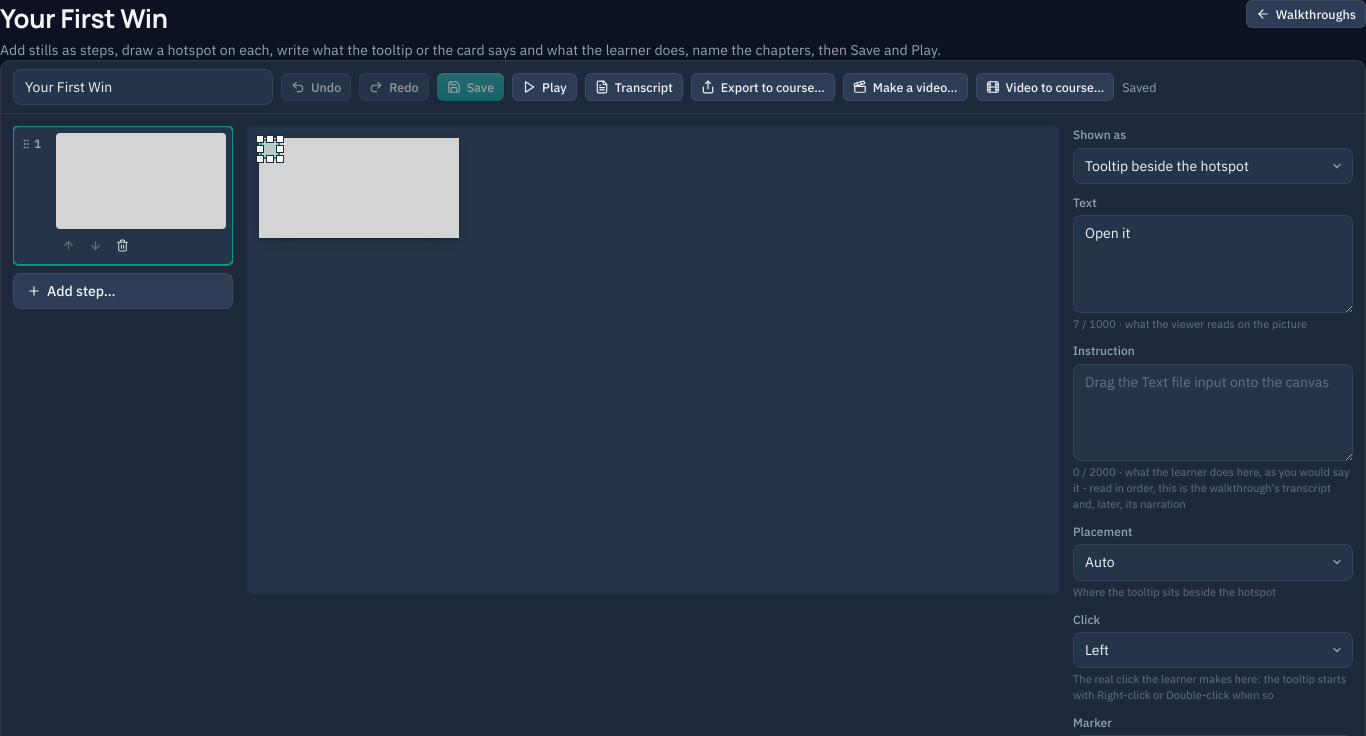
Test: Video to course… (R1) › sits beside Make a video… and opens the dialog with everything prefilled and the three lines
Click the button "Video to course…": [1045, 87] box [976,73,1114,101]
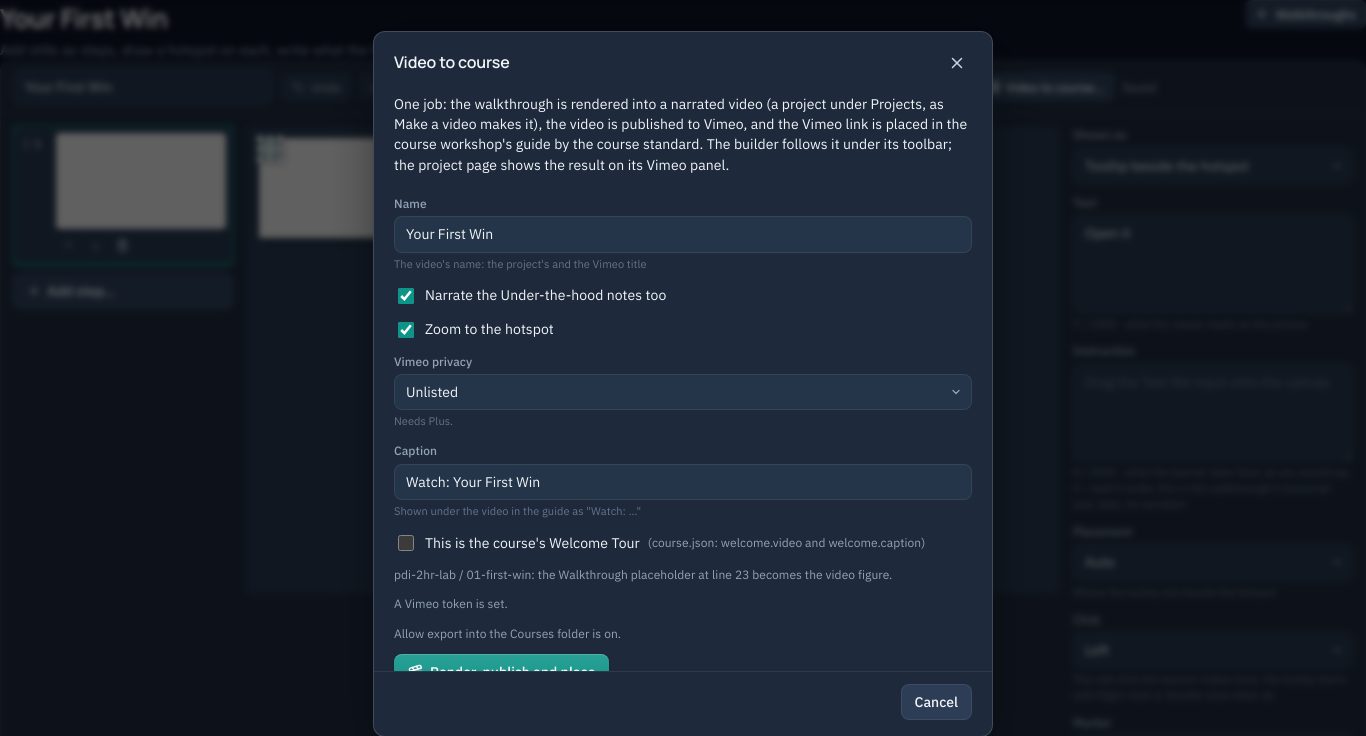
Expected: the field labelled "Name The video's name: the project's and the Vimeo title" holds "Your First Win", [394,216,972,253]
Expected: the checkbox labelled "Narrate the Under-the-hood notes too" is checked, [398,288,414,304]
Expected: the checkbox labelled "Zoom to the hotspot" is checked, [398,322,414,338]
